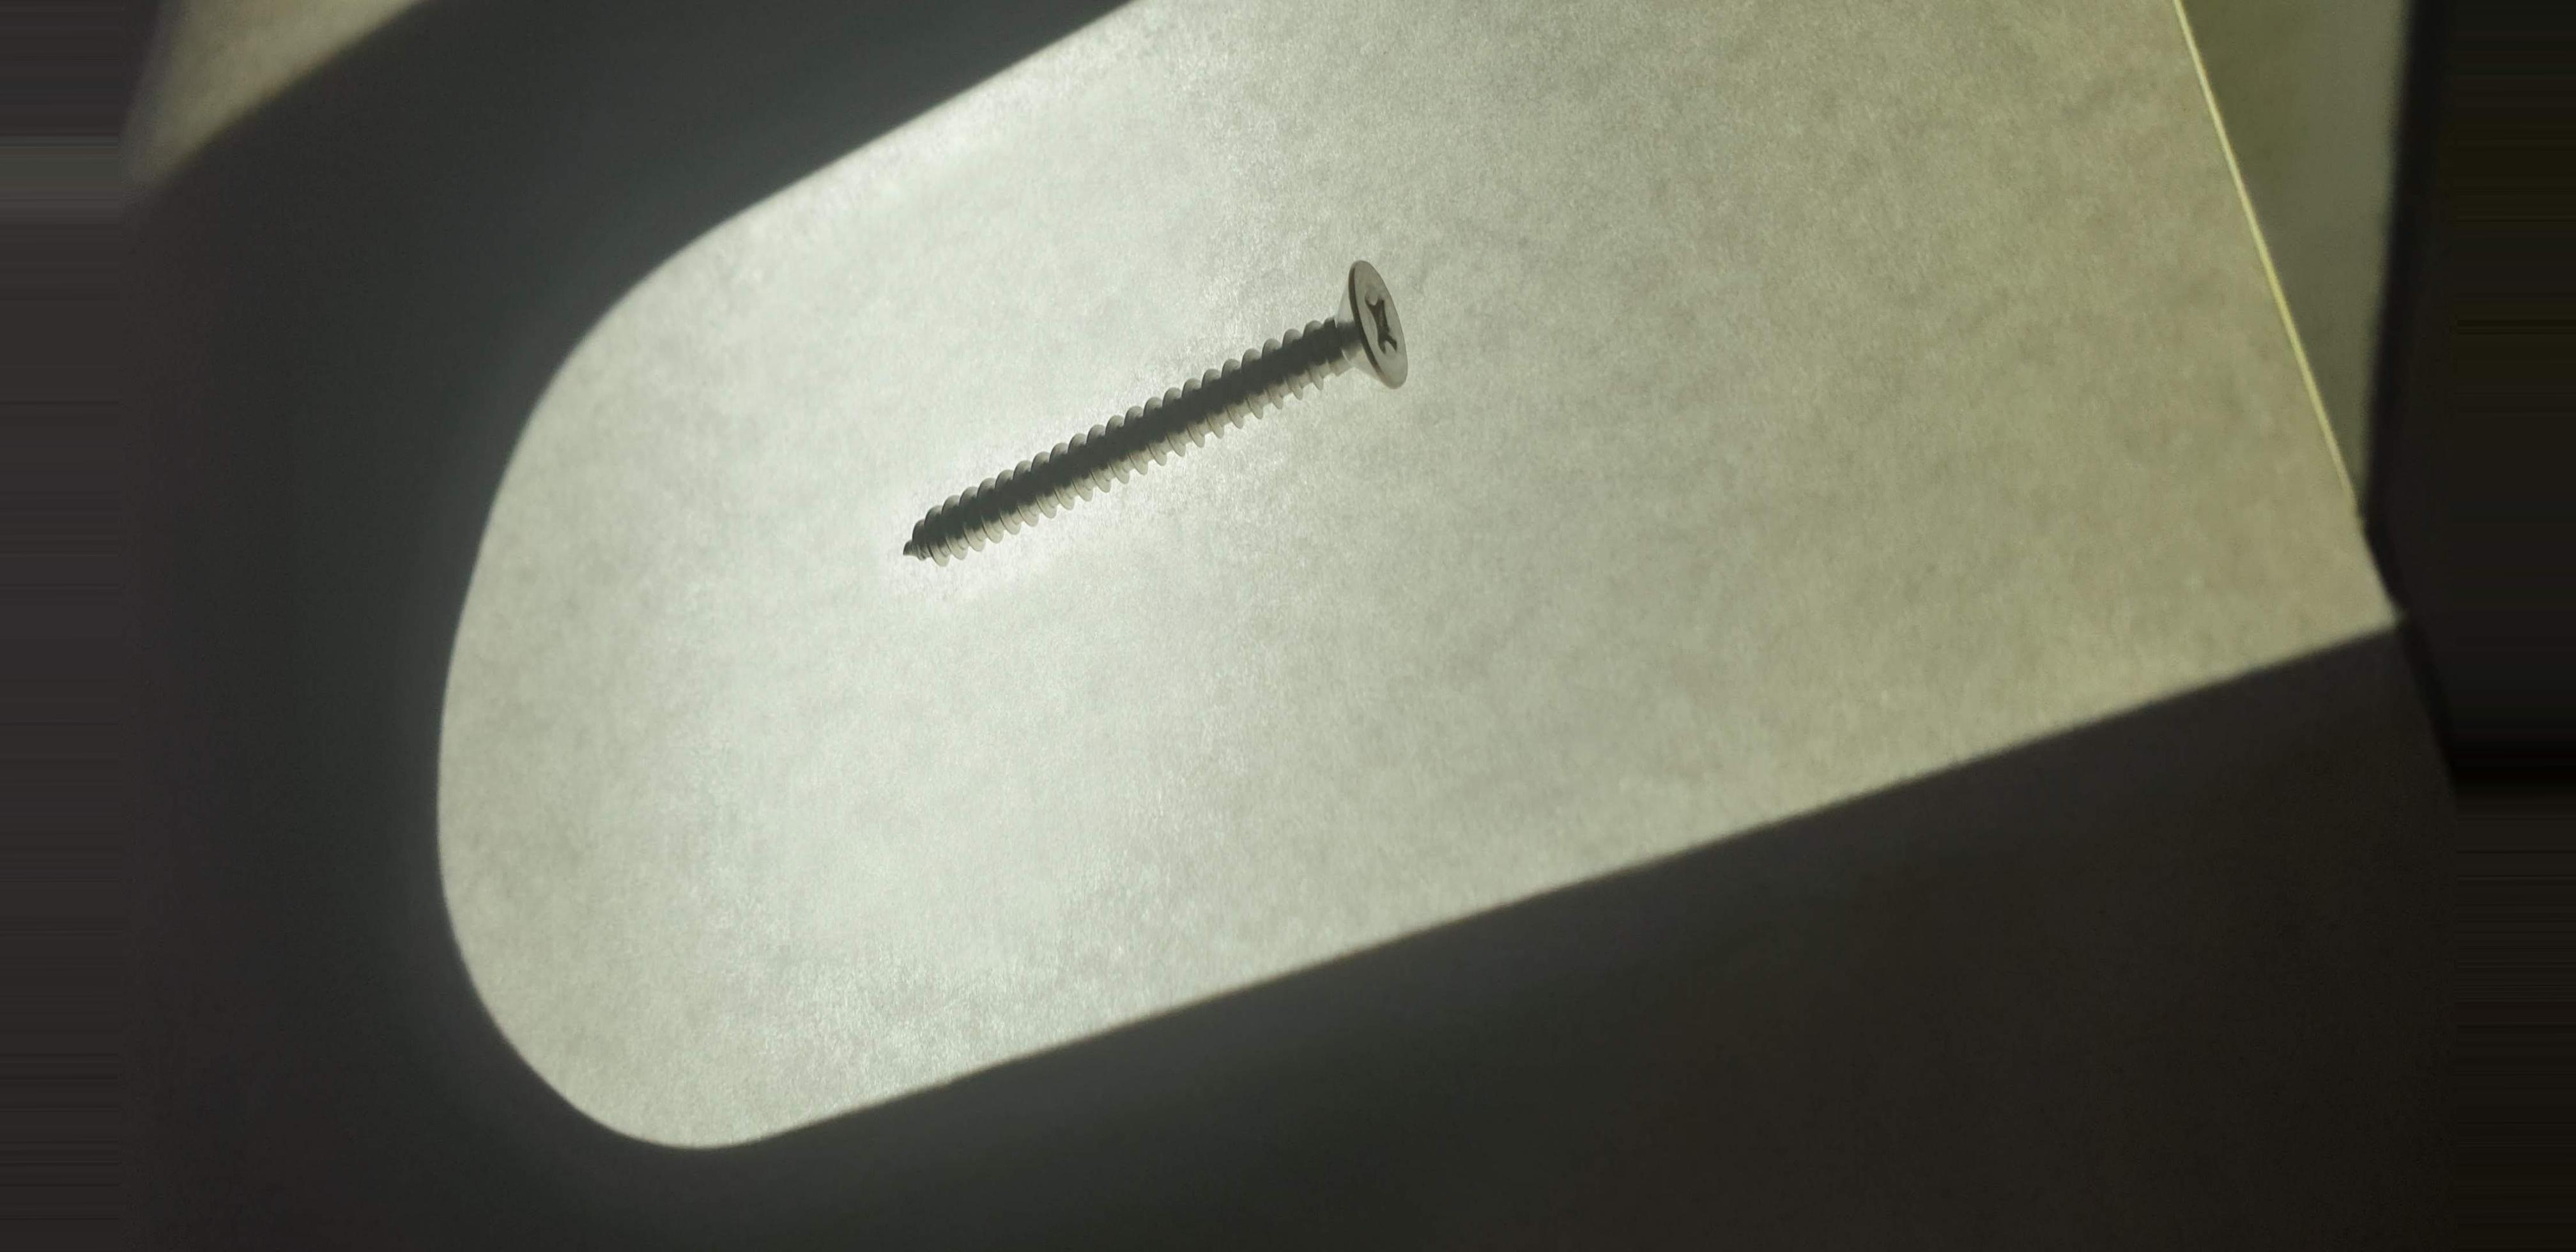S001: (876, 235, 1437, 608)
